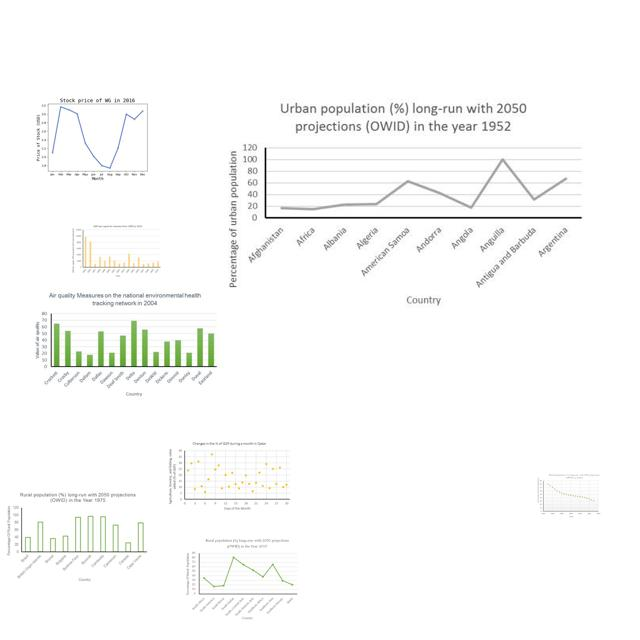Graph: (222, 98, 588, 310), (30, 289, 220, 401), (4, 491, 149, 584), (32, 89, 160, 185), (184, 537, 299, 621), (165, 440, 293, 512), (71, 224, 162, 278), (536, 472, 604, 518)
